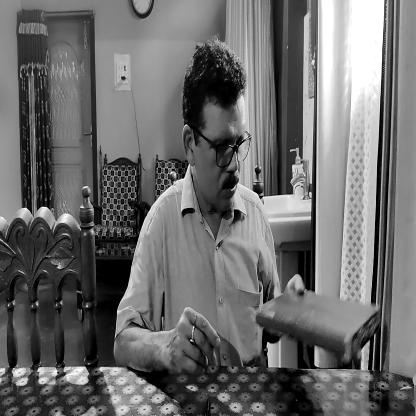Distracted: (189, 69, 250, 221)
